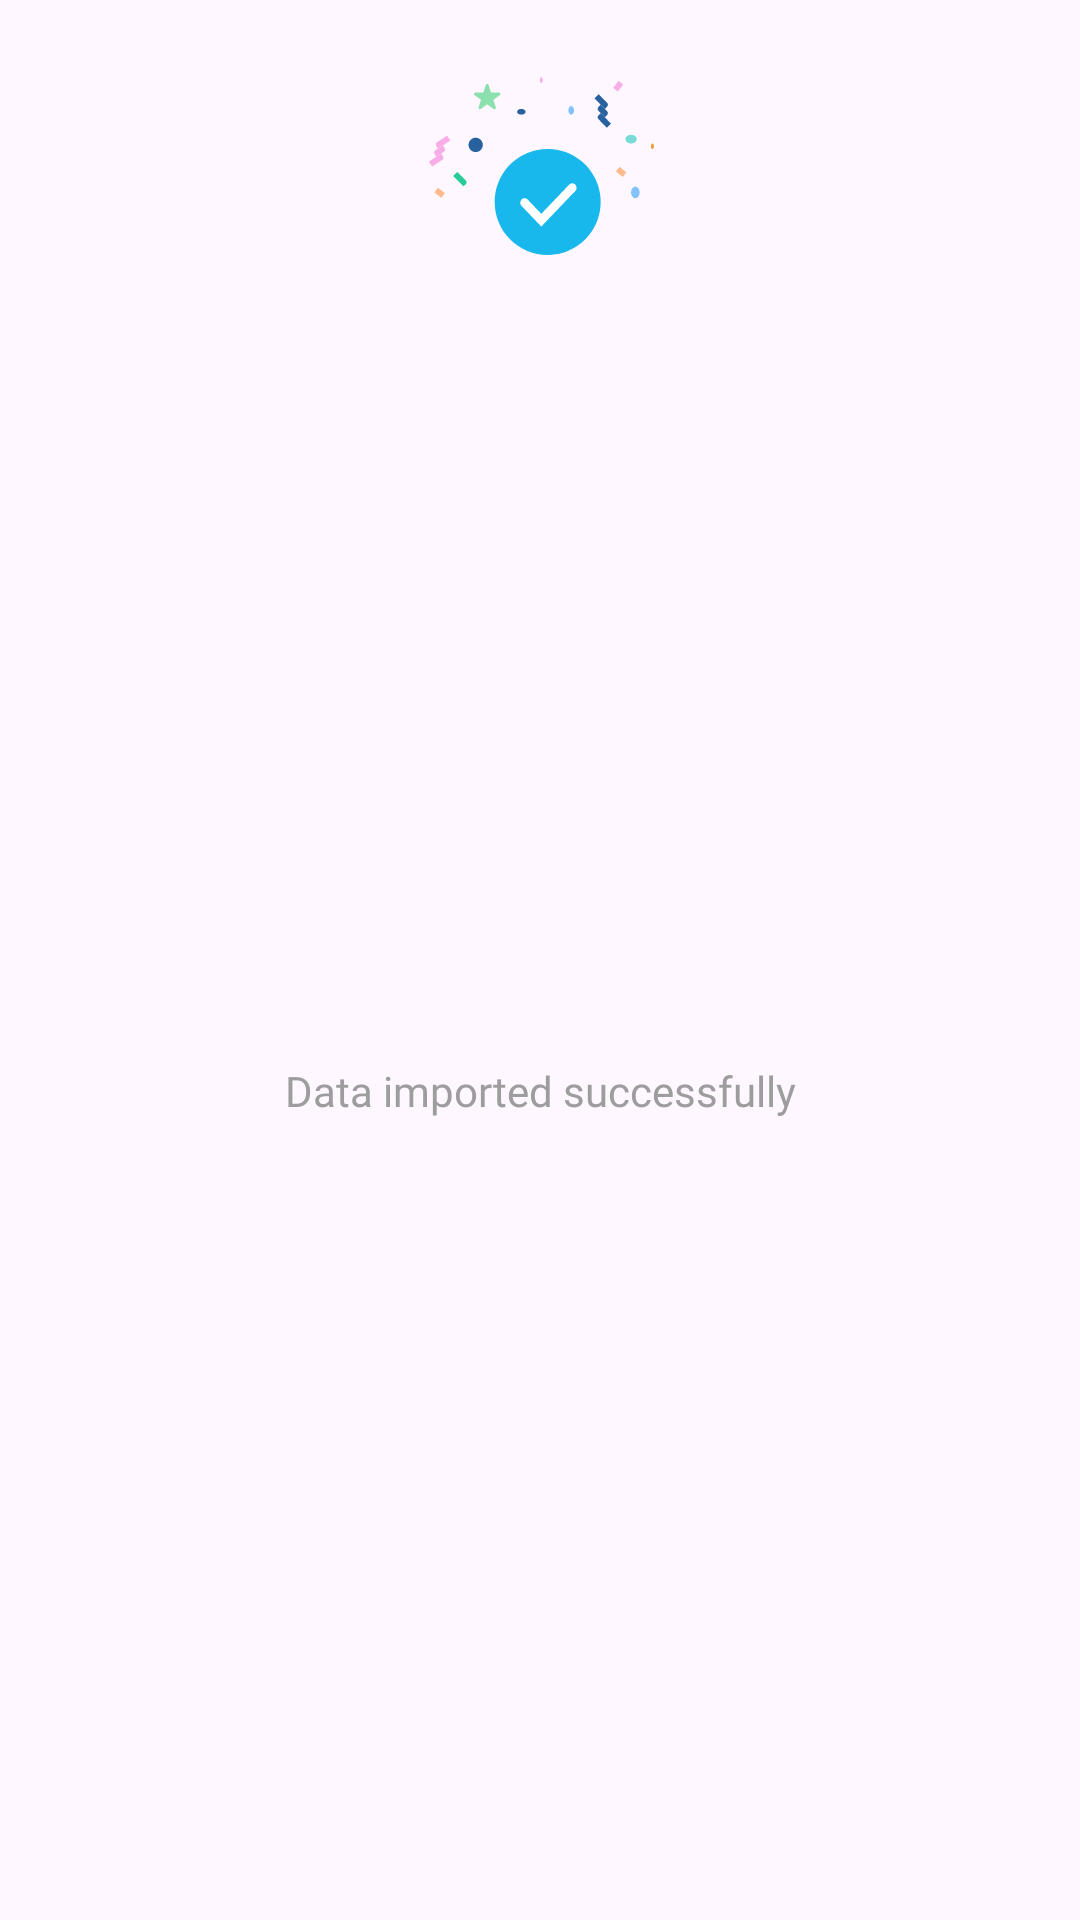

Icons on this 1080*1920 Android screen, each with its box as [left=x1, top=y1, right=x2, bottom=y2]:
succes: [left=429, top=77, right=654, bottom=255]
